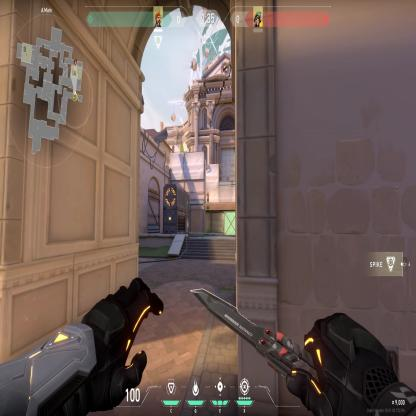enemy: (206, 190, 210, 203)
